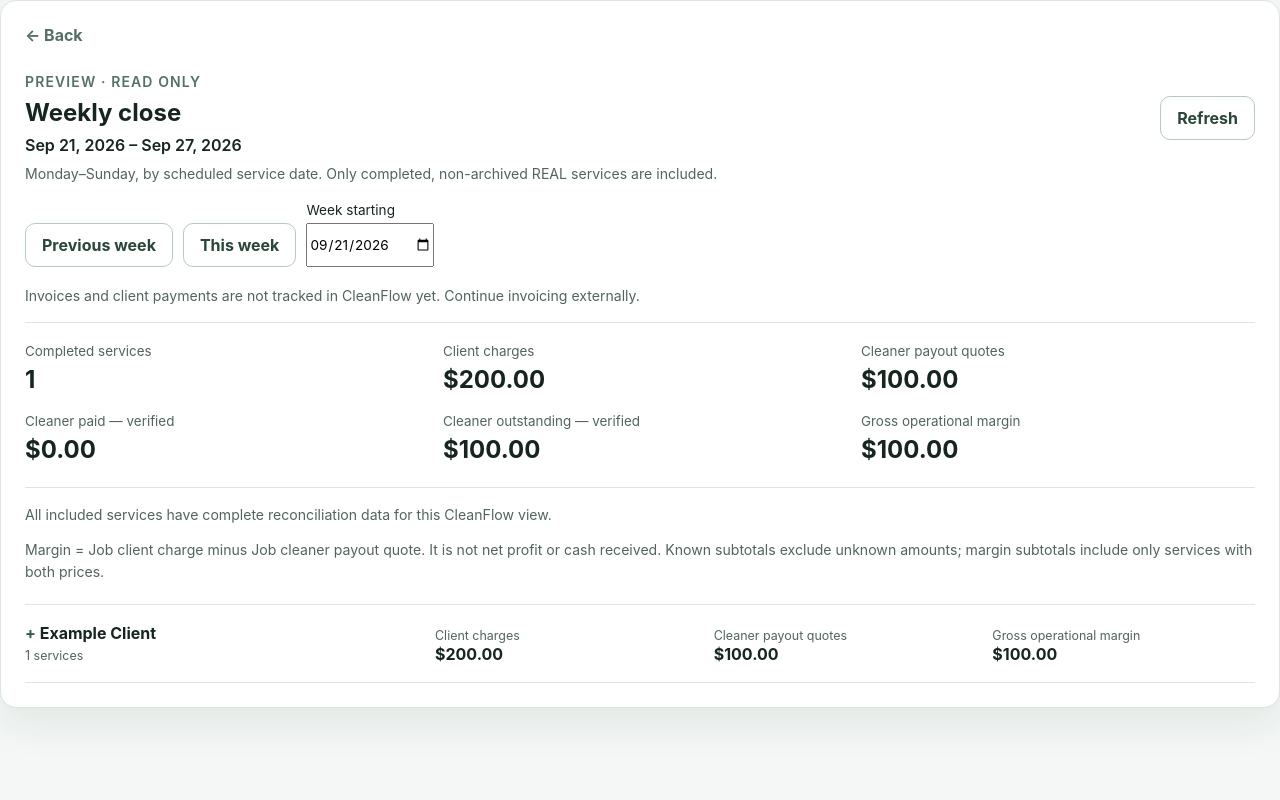
Test: Weekly Close manager preview › opens the previous LA service week with reconciled read-only client rows
Expected: the date field labelled "Week starting" holds "2026-09-21", [306,223,434,267]
Click the text "Example Client": (32, 633) [25,623,156,643]
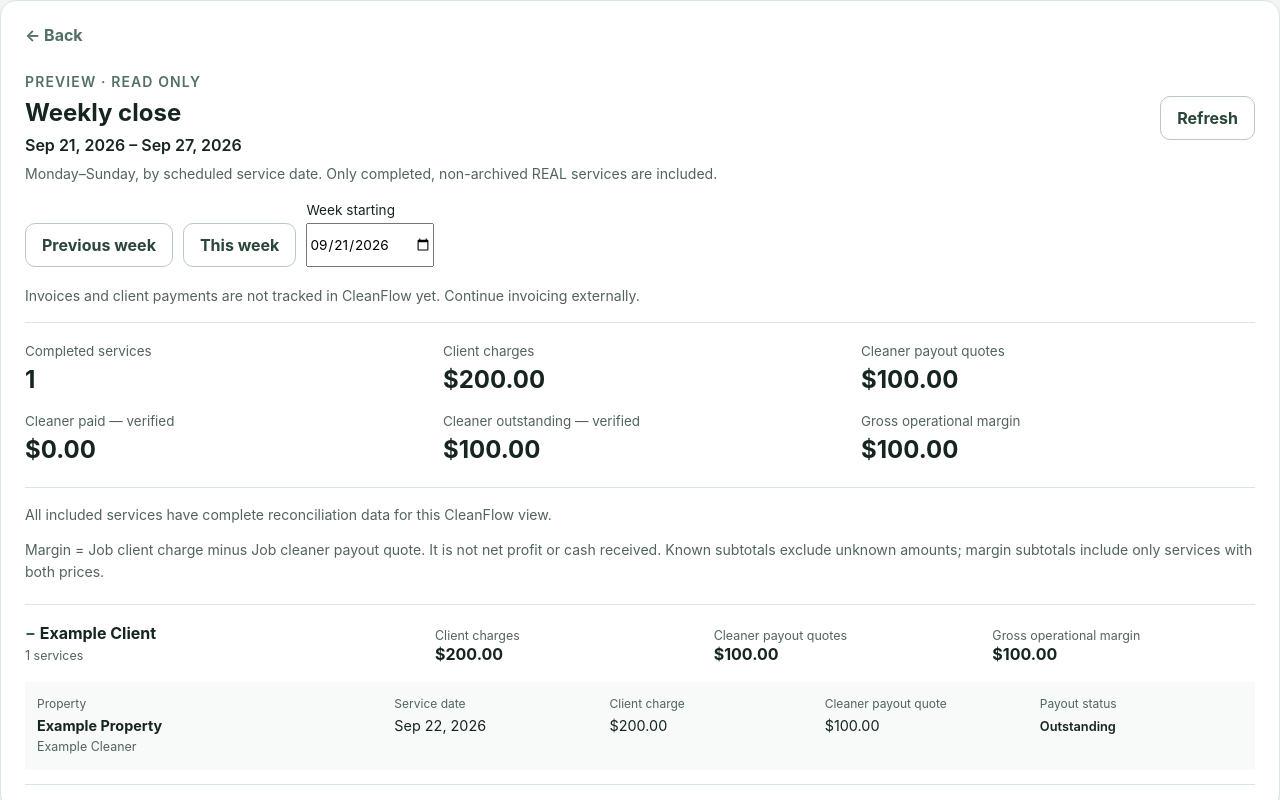
Now the list item with class "weekly-close-job" shows "Example Cleaner", box [37,739,136,754]
Now the list item with class "weekly-close-job" shows "Outstanding", box [1040,719,1116,734]
